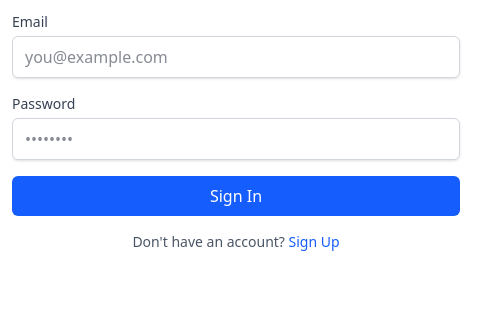
Test: LoginForm › shows error for invalid credentials (401)
The image size is (478, 328).
In the field labelled "Email": (236, 57) x1=12 y1=36 x2=460 y2=78, type "user@example.com"
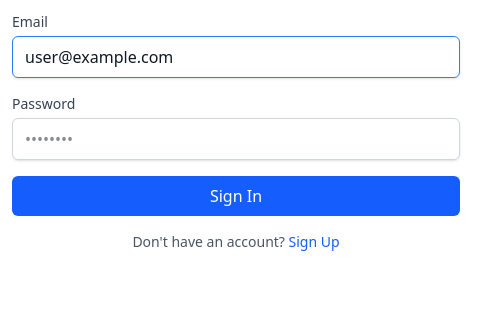
In the password field labelled "Password": (236, 139) x1=12 y1=118 x2=460 y2=160, type "WrongPassword"
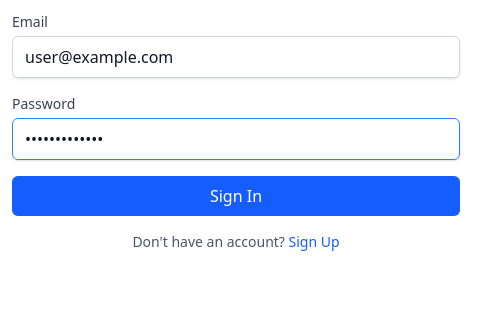
Click the button "Sign In": click(236, 196) x1=12 y1=176 x2=460 y2=216
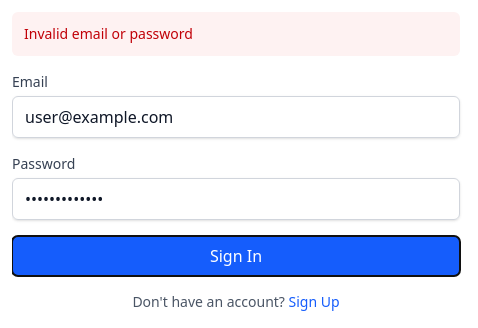
Now the text "Invalid email or password" is shown, box x1=12 y1=12 x2=460 y2=56
